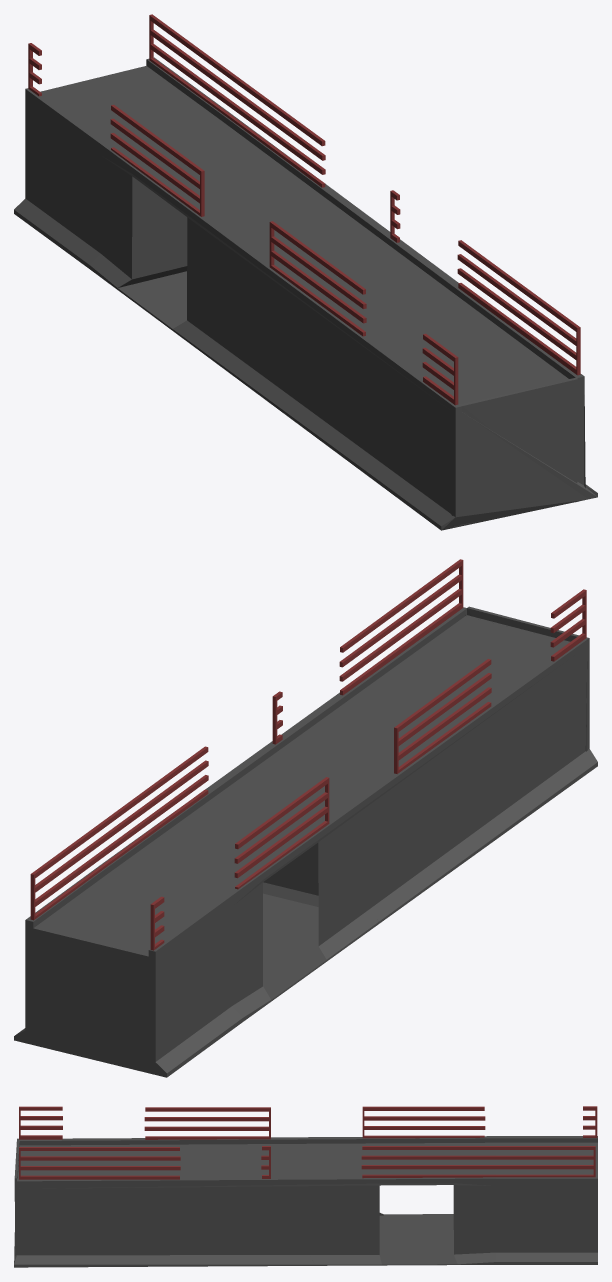
Rendered from Level4 Conveyor Foundation.fbx.
3 views of the same model, one above another, from view 1: azimuth 30°, elevation 25°; view 2: azimuth 150°, elevation 25°; view 3: azimuth 270°, elevation 25° (orthographic). The views are drawn at different scales.
Visible parts, largest first — view 1: polySurface121; view 2: polySurface121; view 3: polySurface121.
Part boxes in pixels (box(x1,y1,x2,y2)): polySurface121: box(14, 14, 597, 530); polySurface121: box(14, 559, 597, 1077); polySurface121: box(14, 1106, 597, 1267).
Bounding box in the file's own units: 8.09 × 8.74 × 39.94.
